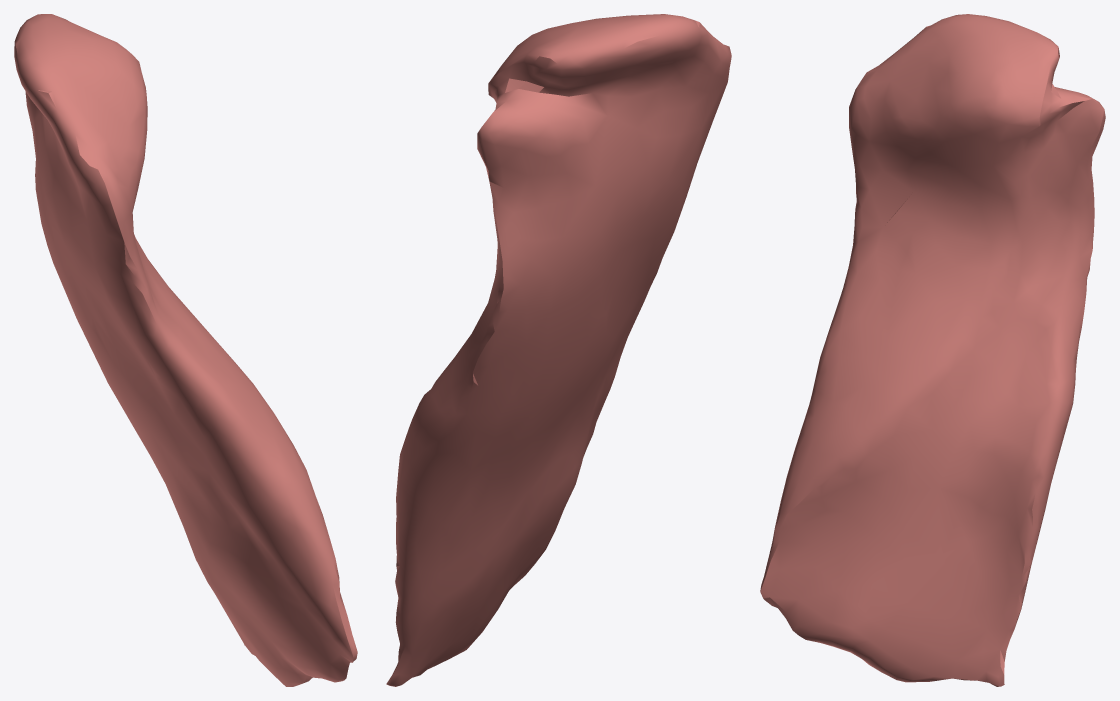
Rendered from fma49004_mm1118m.glb.
The picture shows the model from 3 angles, left to right: view 1: azimuth 30°, elevation 25°; view 2: azimuth 150°, elevation 25°; view 3: azimuth 270°, elevation 25°; orthographic projection. The views are drawn at different scales.
Visible parts, largest first — view 1: FMA49004_MM1118M; view 2: FMA49004_MM1118M; view 3: FMA49004_MM1118M.
Boxes of the visible parts, x1=… form: FMA49004_MM1118M: x1=14, y1=14, x2=357, y2=686; FMA49004_MM1118M: x1=386, y1=14, x2=731, y2=686; FMA49004_MM1118M: x1=760, y1=14, x2=1105, y2=686.
Bounding box in the file's own units: 0.0179 × 0.0451 × 0.0245.
